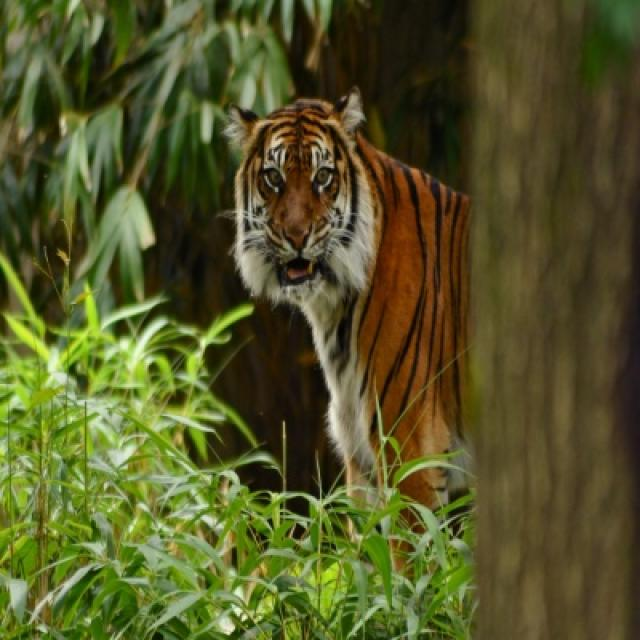Tiger: (224, 87, 483, 555)
